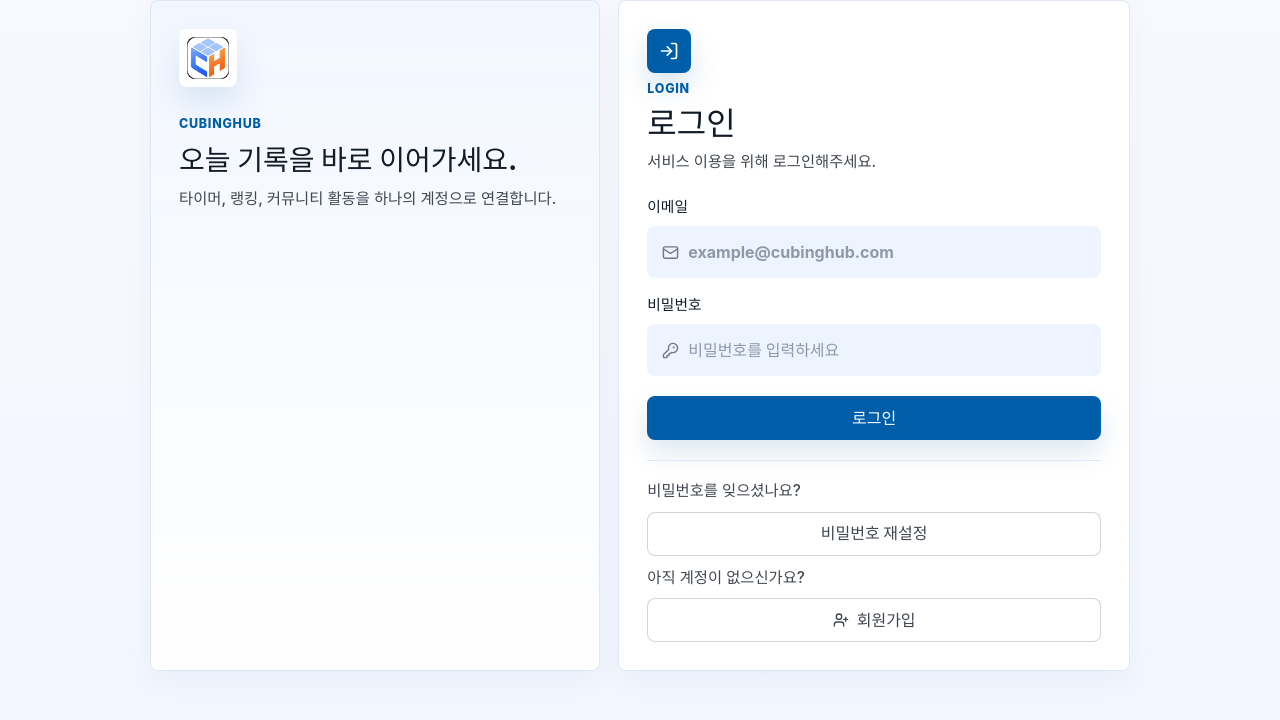
Test: LoginPage › should_show_error_message_when_login_response_does_not_include_access_token
Type "member@cubinghub.com" into the field labelled "이메일" at (887, 252), box [688, 240, 1086, 264]
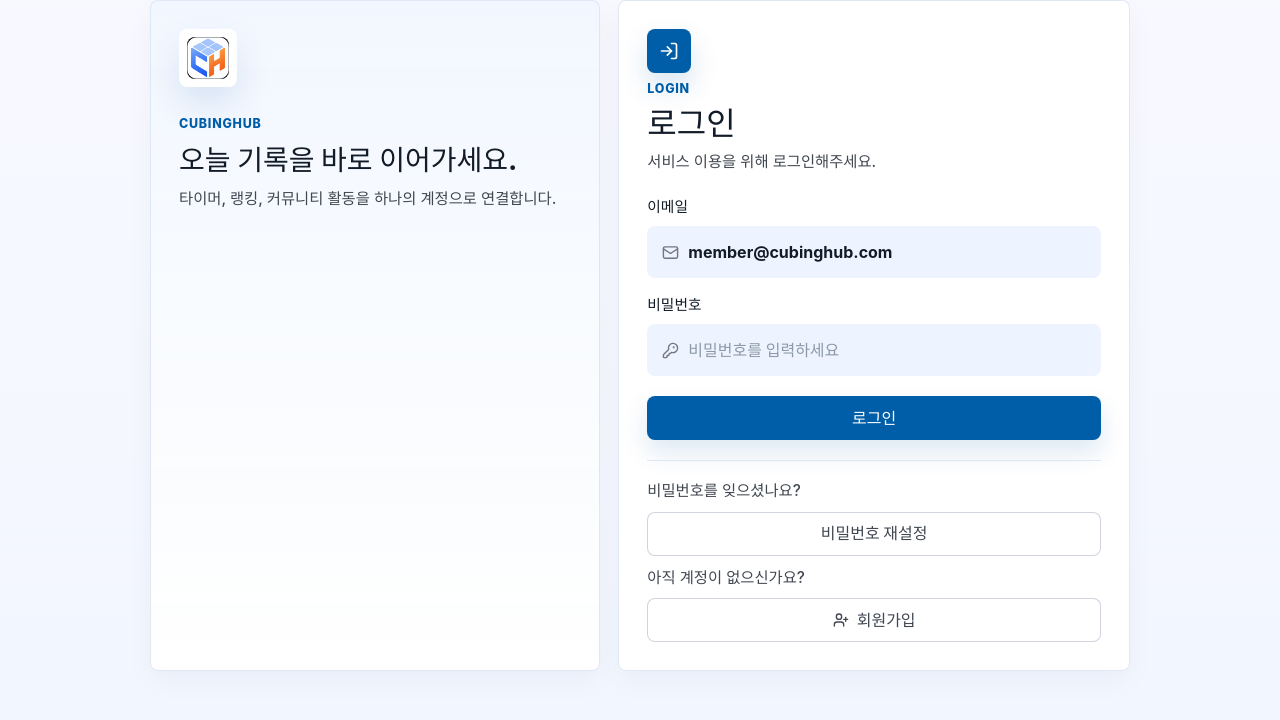
Type "password123!" into the password field labelled "비밀번호" at (887, 350), box [688, 338, 1086, 362]
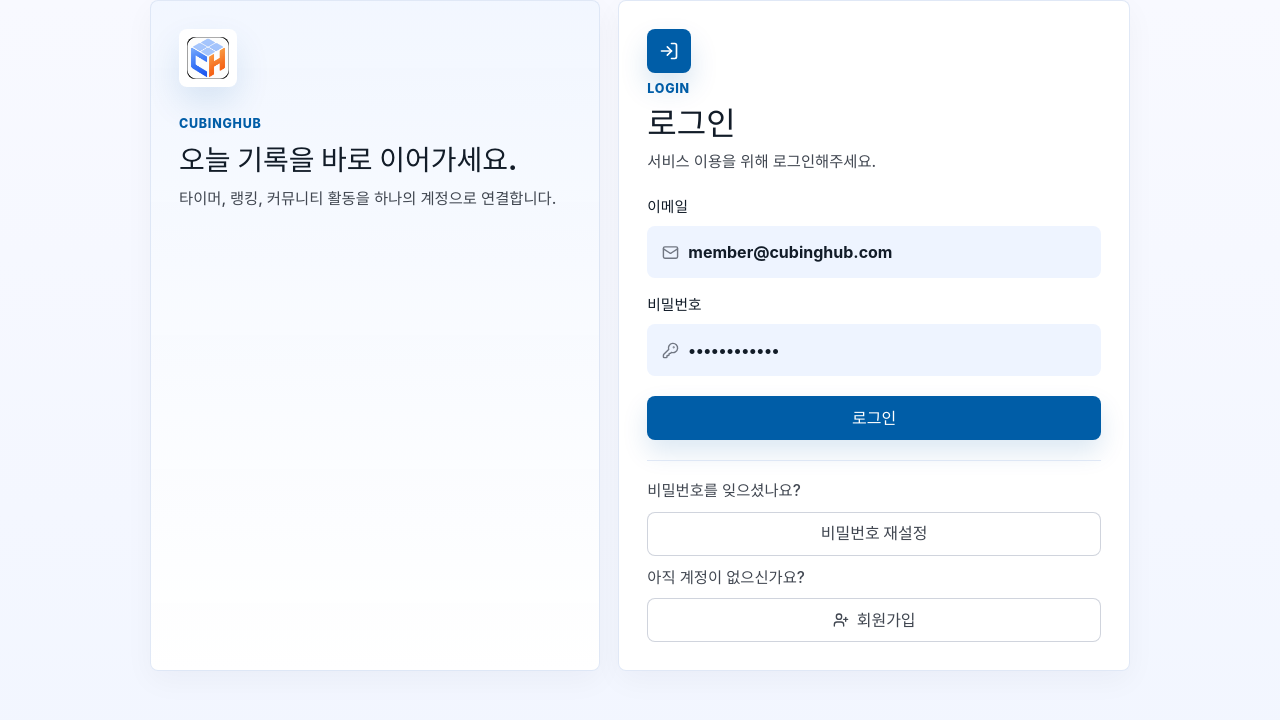
Click the button "로그인" at (874, 418), box [647, 396, 1101, 440]
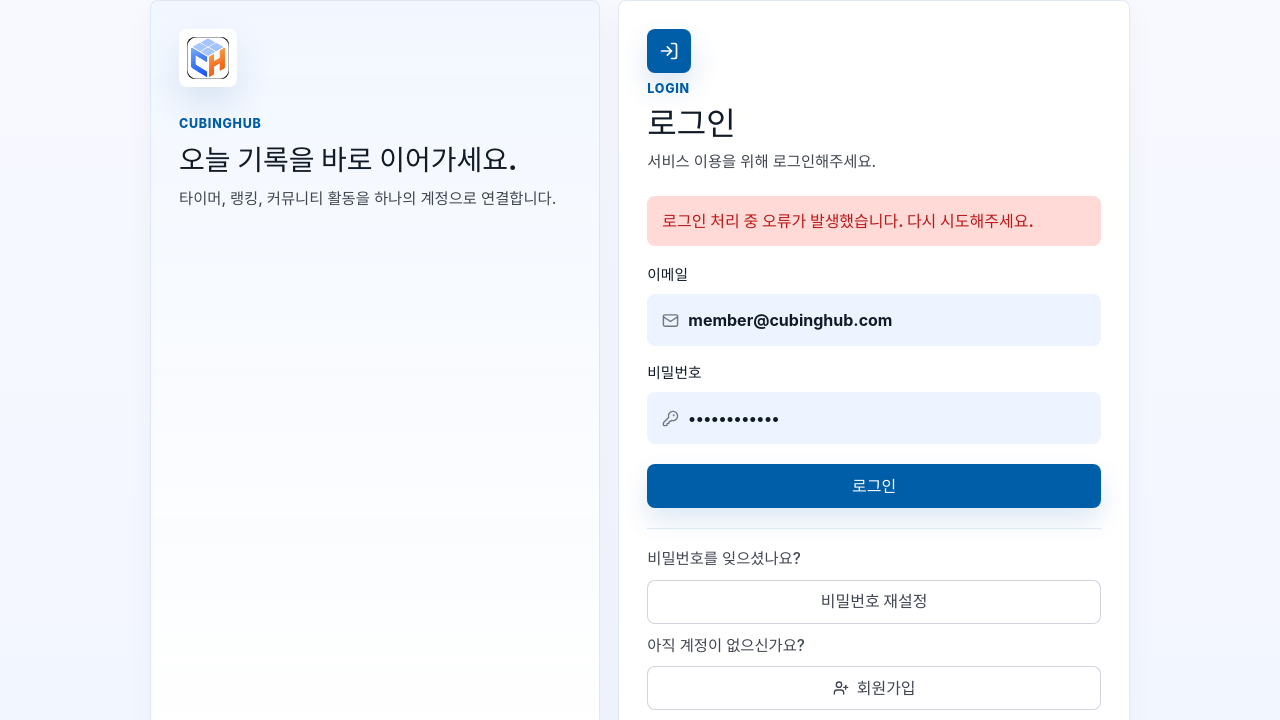
Expected: the text "로그인 처리 중 오류가 발생했습니다. 다시 시도해주세요." is shown, [647, 196, 1101, 246]
